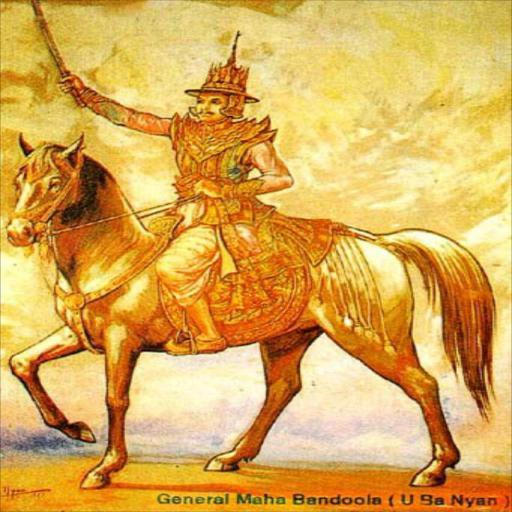Horse: (3, 130, 504, 488)
